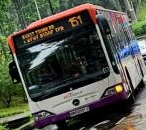bus: (63, 12, 86, 29)
